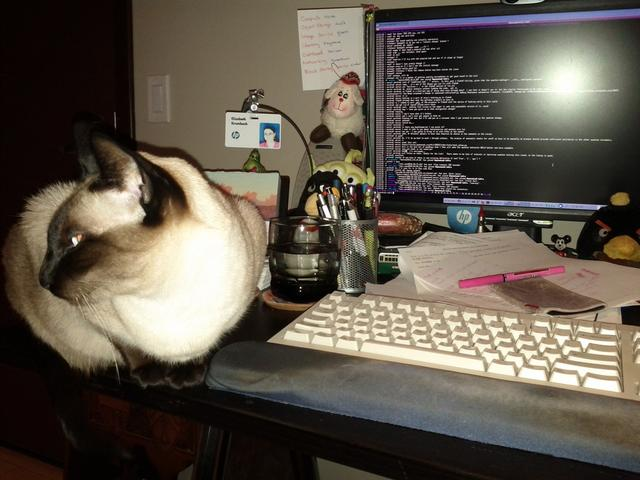cat: (15, 127, 260, 416)
